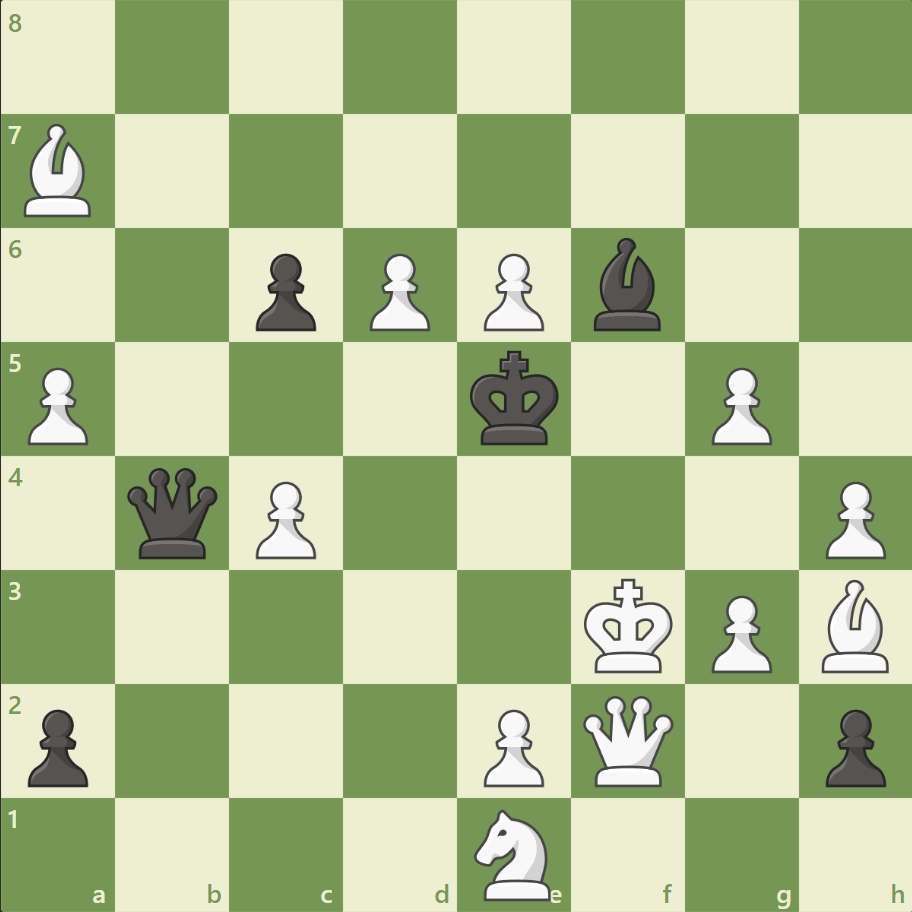B: (17, 120, 101, 222), (812, 574, 896, 676)
K: (579, 571, 679, 679)
N: (465, 802, 562, 904)
P: (474, 246, 549, 337), (20, 359, 95, 450), (701, 359, 776, 450), (247, 473, 322, 564), (701, 586, 776, 677), (474, 700, 549, 791), (361, 246, 435, 337), (815, 473, 889, 564)
Q: (578, 690, 677, 789)
b: (585, 233, 669, 336)
k: (465, 344, 565, 452)
p: (247, 246, 322, 337), (20, 700, 95, 791), (815, 700, 889, 791)
q: (124, 463, 223, 562)
